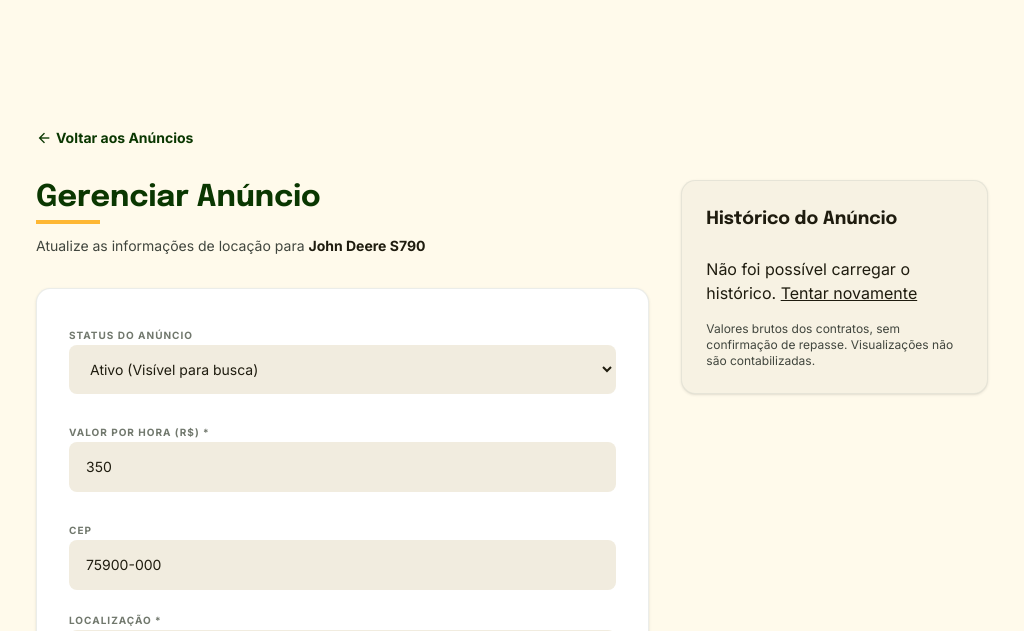
Test case: offers to reload the rental history when it fails
Click the button "Tentar novamente".
click(849, 293)  # box left=781, top=281, right=917, bottom=305
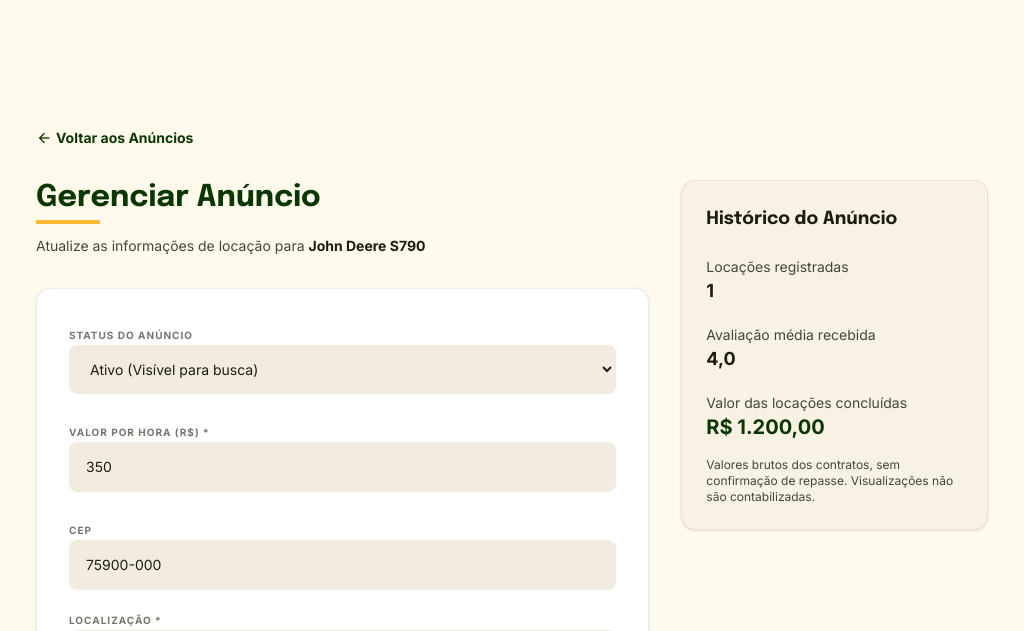
expect the text "4,0" is shown: met, box left=706, top=348, right=736, bottom=369
